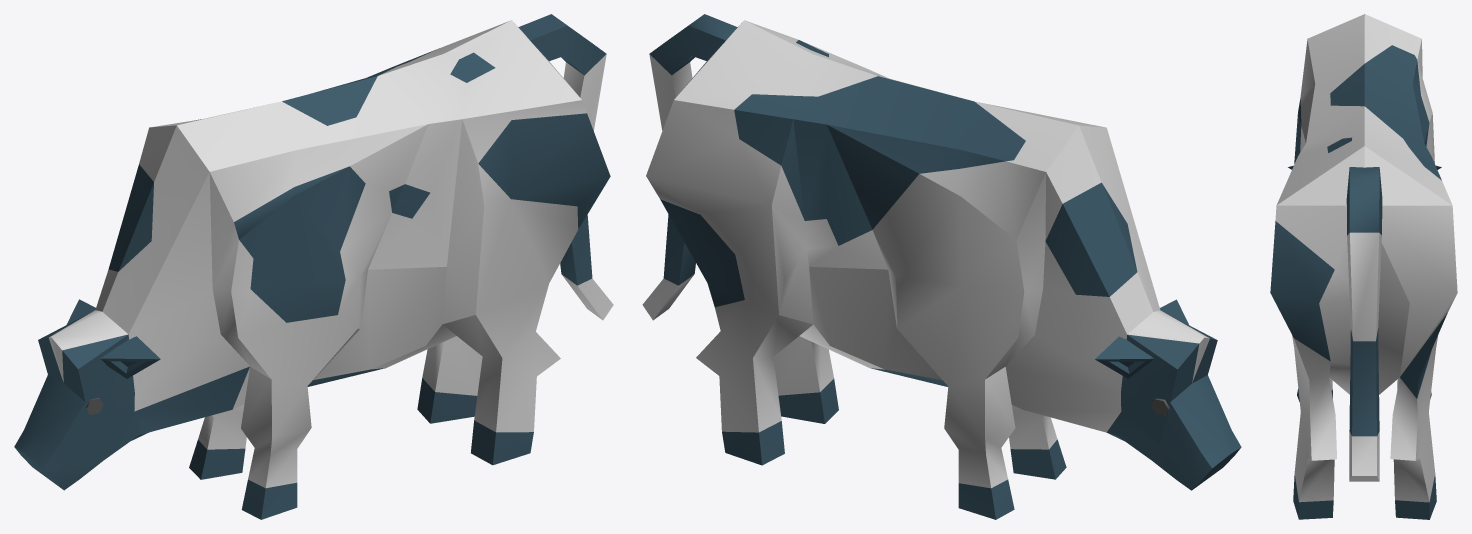
File: cattle001.gltf
3 renders of one model, left to right at view 1: azimuth 30°, elevation 25°; view 2: azimuth 150°, elevation 25°; view 3: azimuth 270°, elevation 25°, orthographic. The views are drawn at different scales.
Parts seen in each view (by area): view 1: node_cattle001_-87404; view 2: node_cattle001_-87404; view 3: node_cattle001_-87404.
Part boxes in pixels (x1,y1,x2,y2): node_cattle001_-87404: [14, 14, 613, 519]; node_cattle001_-87404: [642, 14, 1241, 519]; node_cattle001_-87404: [1270, 14, 1457, 519].
Size of what is drawn, in the model's own units: 0.8123 by 0.5385 by 0.2398.
